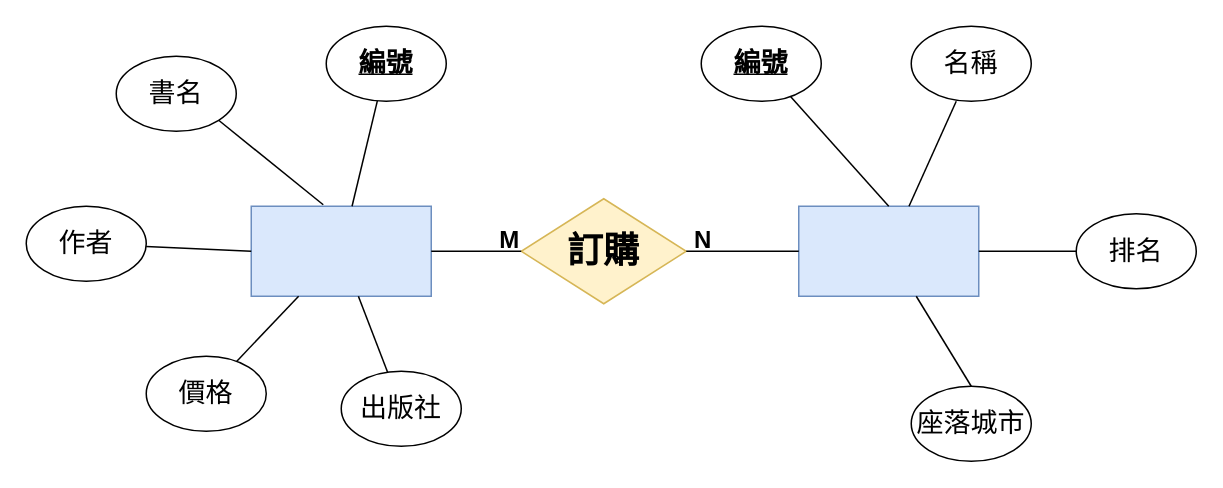
Some shapes in this 1223 by 488 pixel diagram are drawn without their labels. The shapes that lost their labels are listed below. From the top down, each one's box as (x1, y1, x2, y2) in pixels, then its label:
(250, 205, 431, 296): 書籍資料
(797, 205, 979, 296): 書局
